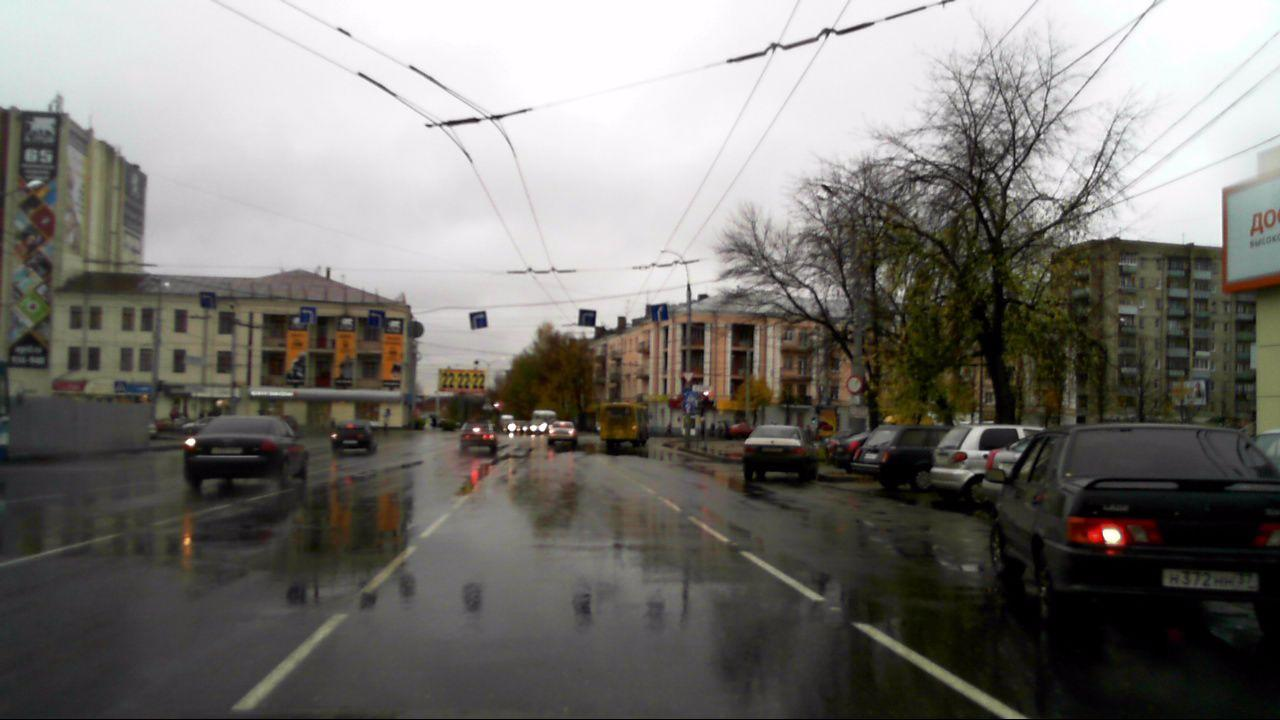road_sign: (468, 310, 487, 332), (577, 308, 598, 327), (197, 291, 218, 310), (649, 303, 669, 321), (367, 310, 387, 328), (298, 305, 316, 325)
